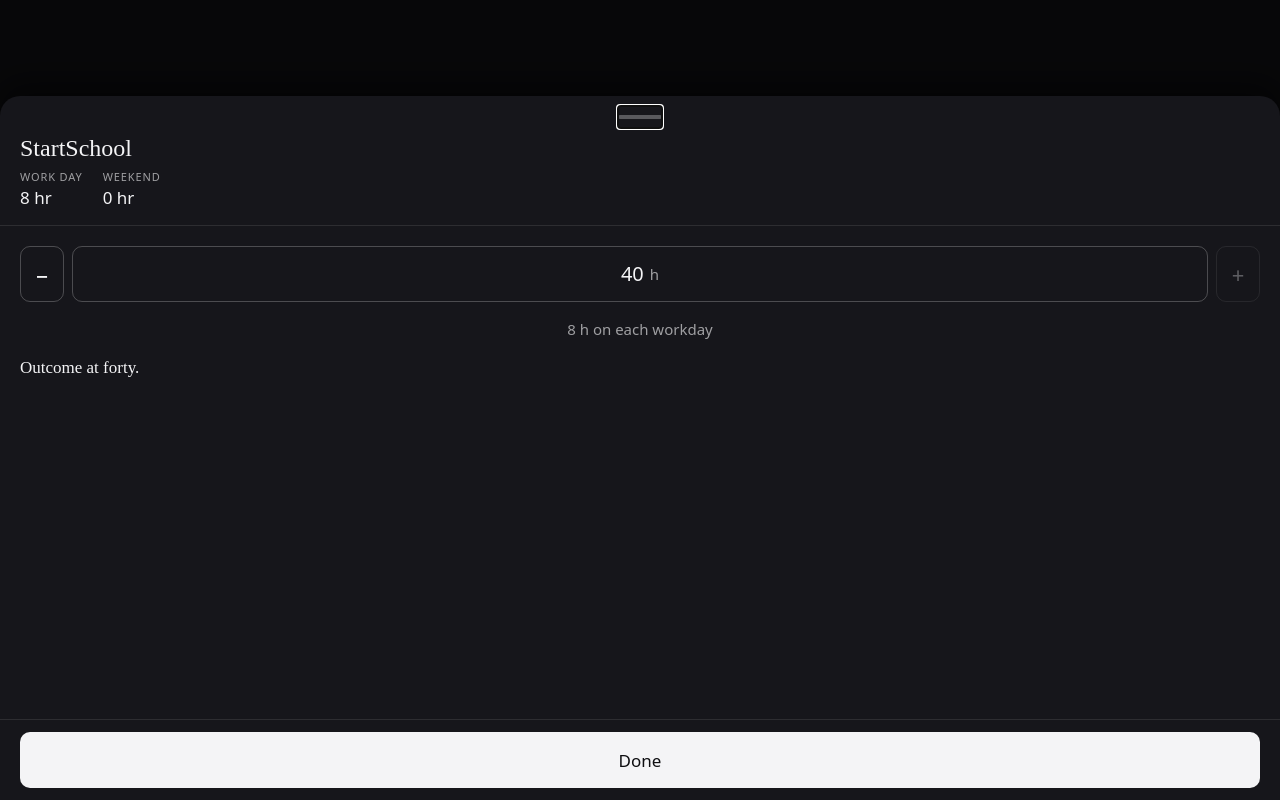
Scenario: the school sheet (AC 40) › writes a step straight through, and it appears in cut order (§8.3)
This screenshot has width=1280, height=800.
Expected: the element with test id "school-weekly" shows "40", [621, 260, 644, 287]
Expected: the button with test id "school-up" is disabled, [1216, 246, 1260, 302]
Click the button with test id "school-down".
click(42, 274)  # box [20, 246, 64, 302]
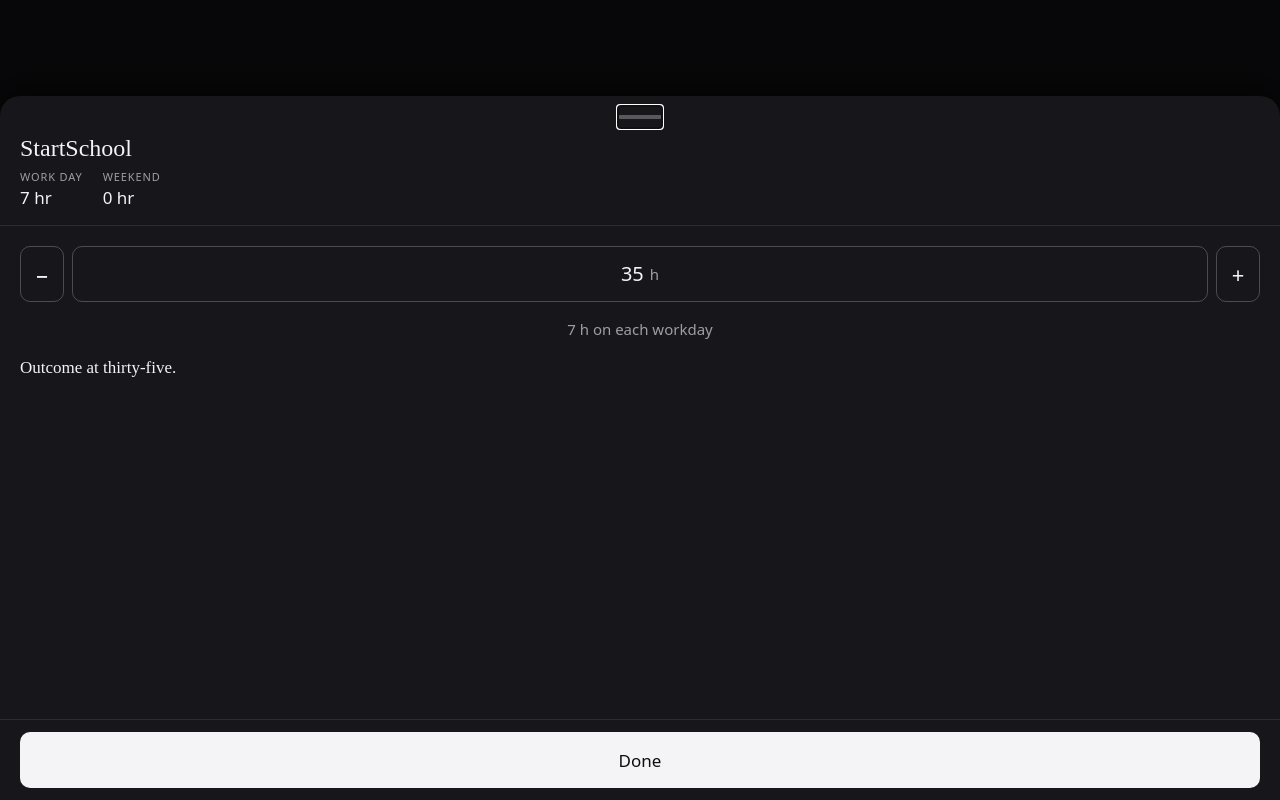
Expected: the element with test id "school-weekly" shows "35", [621, 260, 644, 287]
Expected: the text with test id "school-per-day" reads "7 h on each workday", [567, 319, 713, 339]
